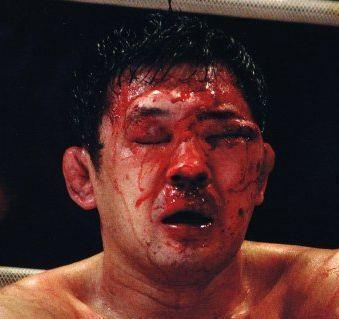Fire: (96, 67, 275, 294)
